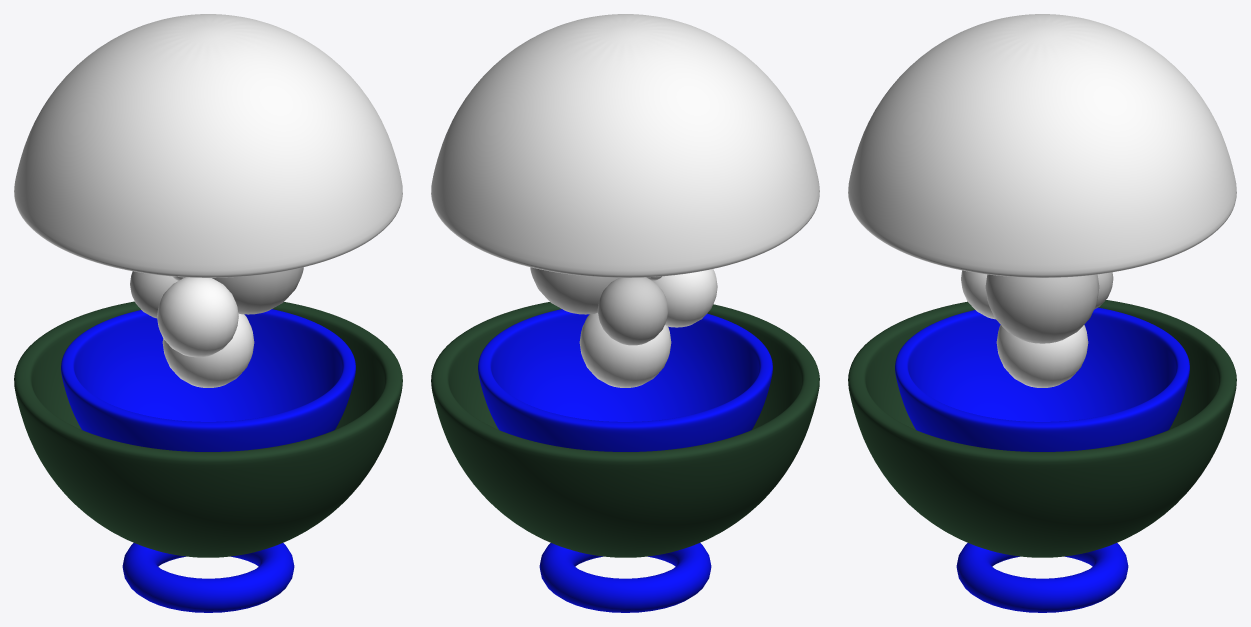
The model's file is Gem Paisible clean.fbx.
The picture shows the model from 3 angles, left to right: view 1: azimuth 30°, elevation 25°; view 2: azimuth 150°, elevation 25°; view 3: azimuth 270°, elevation 25°; orthographic projection.
Visible parts, largest first — view 1: Couple_Blanc, Coupole_Verte, Coupole_or, Base, Sphère_6, Sphère_3, Sphère_4, Sphère_5; view 2: Couple_Blanc, Coupole_Verte, Coupole_or, Base, Sphère_3, Sphère_5, Sphère_6, Sphère_4; view 3: Couple_Blanc, Coupole_Verte, Coupole_or, Base, Sphère_4, Sphère_3, Sphère_6.
Boxes of the visible parts, x1,y1,x2,y2 form: Couple_Blanc: (14, 14, 402, 277); Coupole_Verte: (14, 301, 402, 557); Coupole_or: (61, 309, 355, 451); Base: (122, 543, 294, 612); Sphère_6: (157, 277, 238, 357); Sphère_3: (162, 313, 254, 387); Sphère_4: (212, 267, 303, 314); Sphère_5: (130, 271, 177, 318); Couple_Blanc: (431, 14, 819, 277); Coupole_Verte: (431, 302, 819, 557); Coupole_or: (478, 309, 772, 451); Base: (539, 543, 711, 612); Sphère_3: (579, 312, 671, 387); Sphère_5: (597, 277, 668, 345); Sphère_6: (653, 269, 717, 327); Sphère_4: (530, 267, 617, 314); Couple_Blanc: (848, 14, 1236, 277); Coupole_Verte: (848, 300, 1236, 557); Coupole_or: (895, 307, 1189, 451); Base: (956, 543, 1128, 612); Sphère_4: (985, 274, 1099, 343); Sphère_3: (996, 325, 1088, 387); Sphère_6: (961, 270, 995, 319).
Size of the model in its own units: 10.81 by 16.91 by 10.81.
